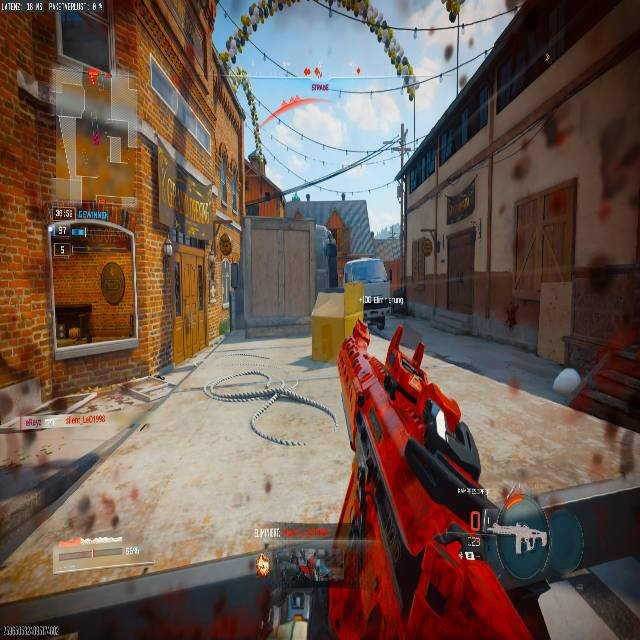player: (248, 546, 333, 635)
